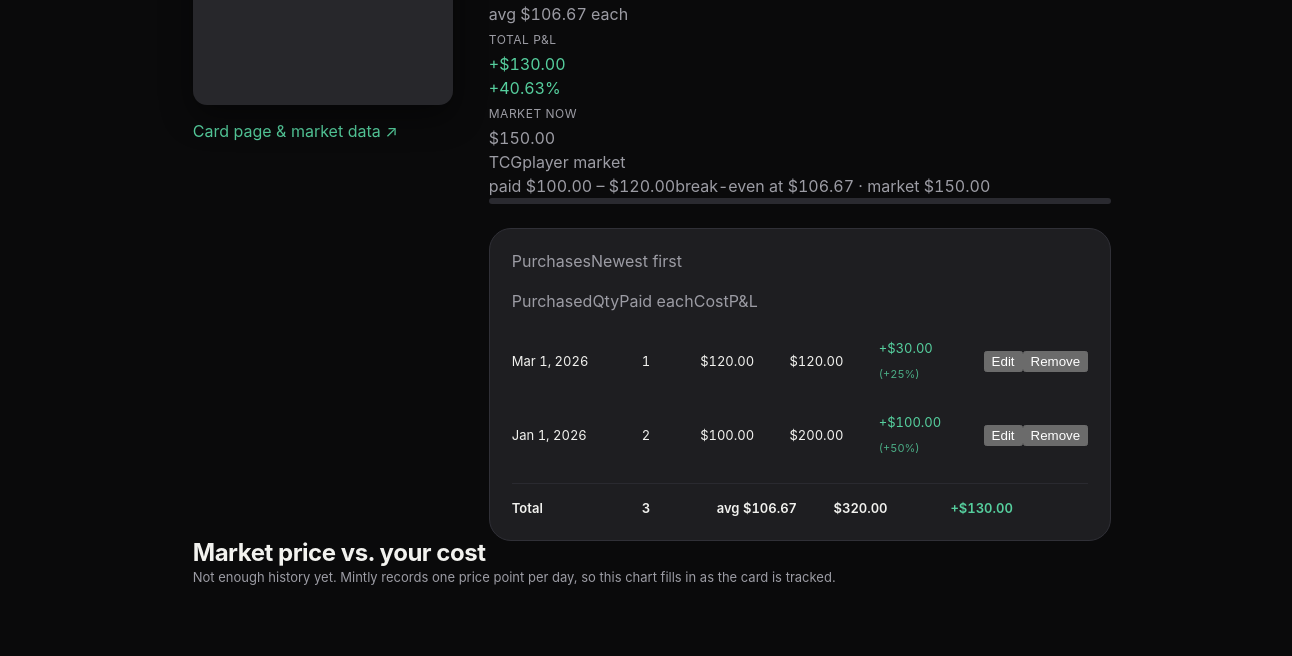
Scenario: Holding page — loaded position › Edit swaps a lot row into the inline edit form
(page scrolled)
// Newest lot first (id 2, paid $120)
Click the button "Edit" next to "+$30.00": (1003, 362) [984, 351, 1023, 372]
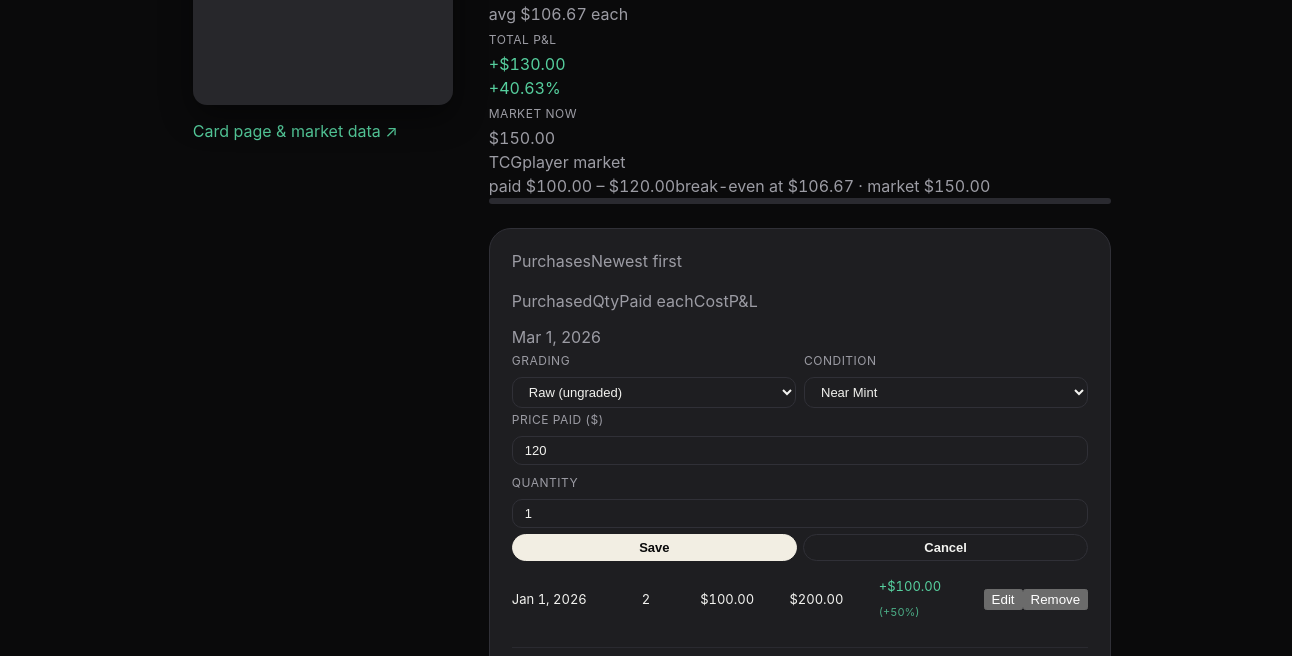
expect the button "Save" is shown: met, box [512, 534, 797, 561]
expect the number field labelled "Price paid ($)" holds "120": met, box [512, 436, 1088, 465]
